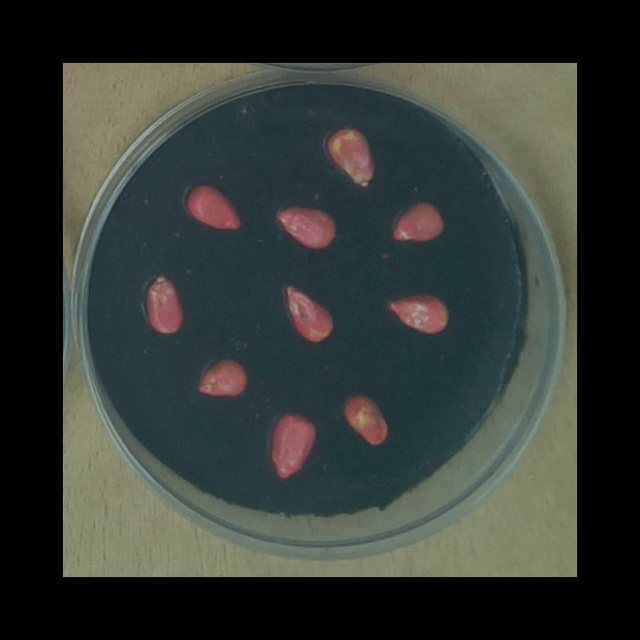Zea mays: (264, 405, 320, 483), (279, 279, 338, 348), (321, 122, 380, 191), (270, 200, 340, 254), (383, 287, 454, 339), (181, 178, 245, 233), (139, 268, 188, 339), (338, 388, 393, 450), (384, 195, 448, 248), (191, 352, 252, 402)
